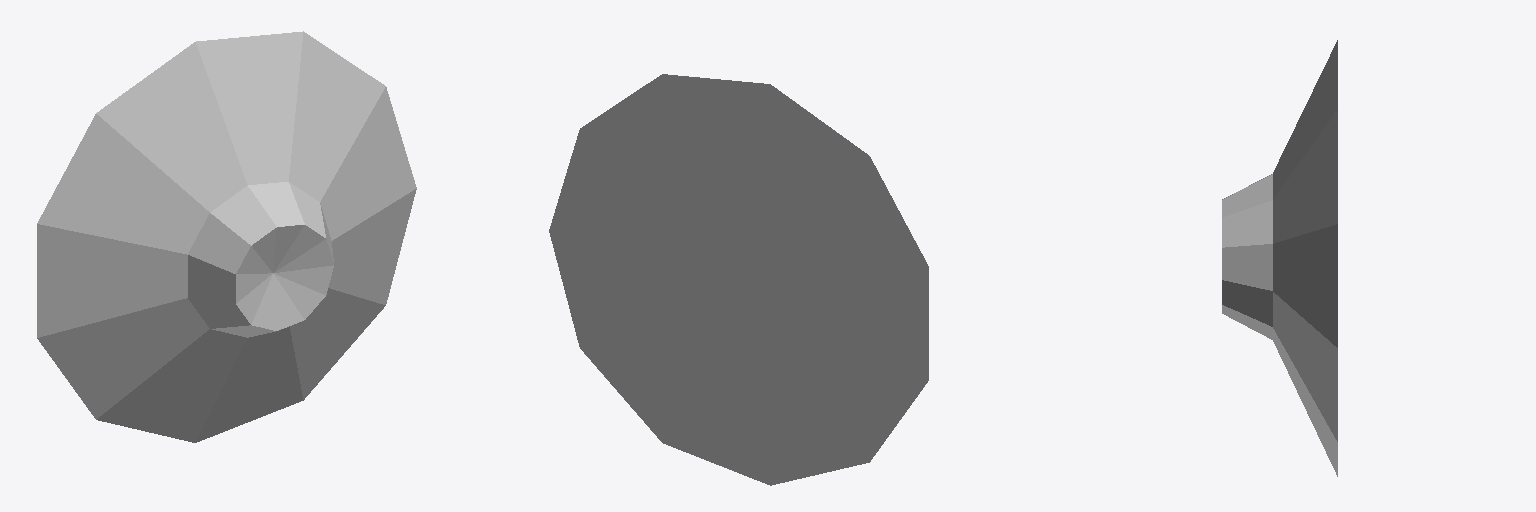
Rendered from onion_0.obj.
The picture shows the model from 3 angles: view 1: azimuth 30°, elevation 25°; view 2: azimuth 150°, elevation 25°; view 3: azimuth 270°, elevation 25°; orthographic projection.
Size of the model in its own units: 1.62 by 1.64 by 0.4294.